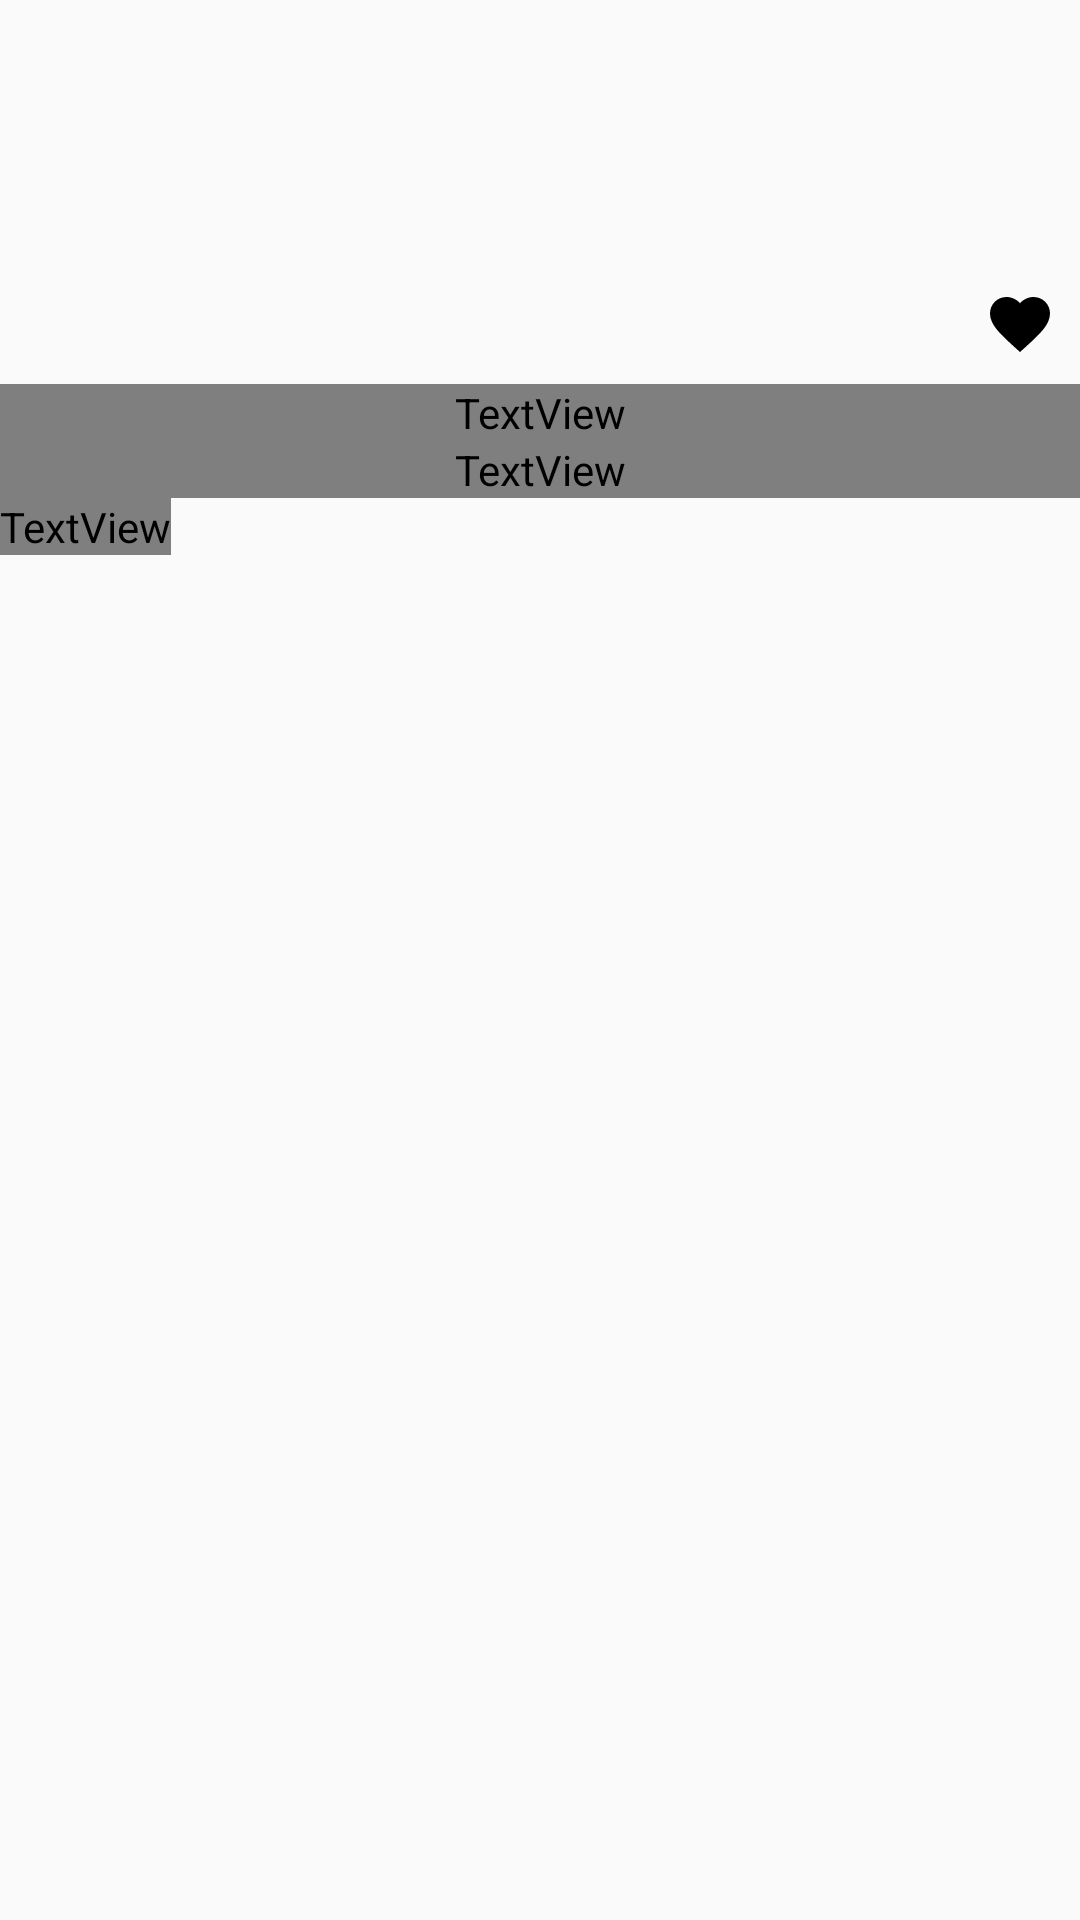

Icon click points for this 1080 × 1920 phone screenshot, format point (x, y):
favorite: point (1020, 324)
